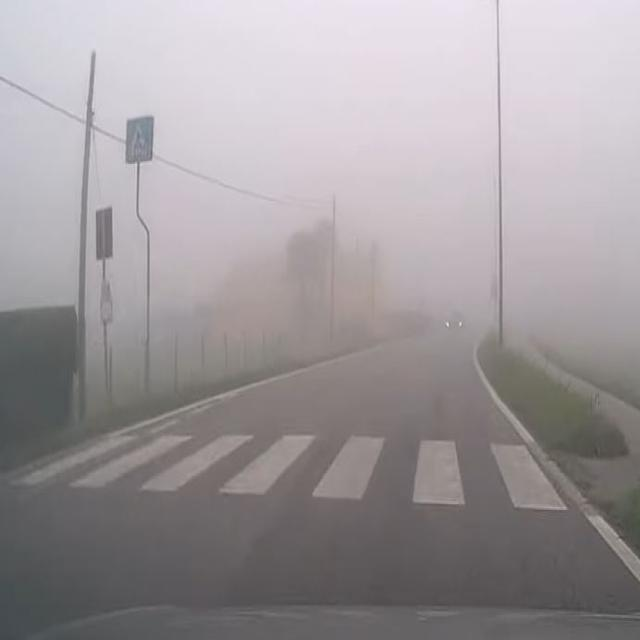Pedestrian crosswalk: (41, 410, 580, 515), (126, 117, 153, 159)
